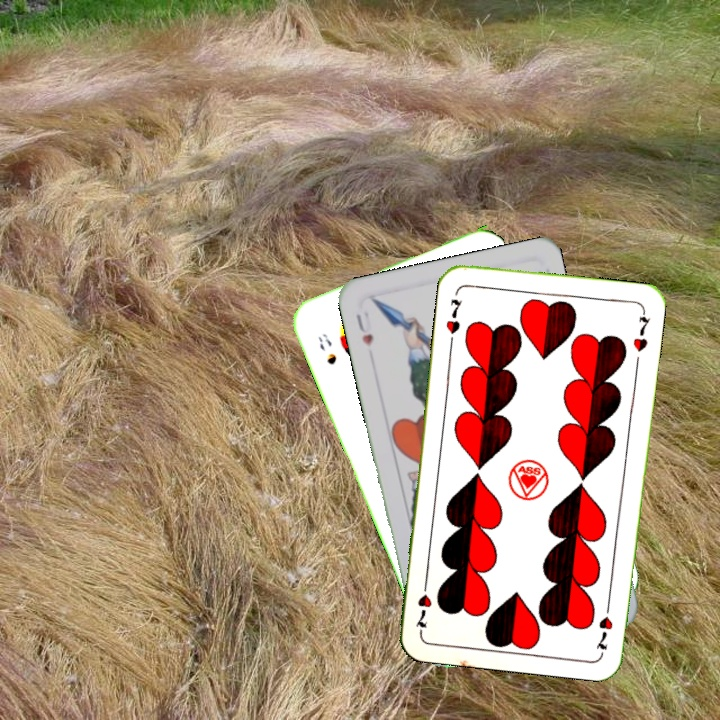H7: (592, 596, 616, 652), (441, 295, 464, 337)
HU: (352, 310, 376, 350)
S8: (314, 329, 339, 367)
